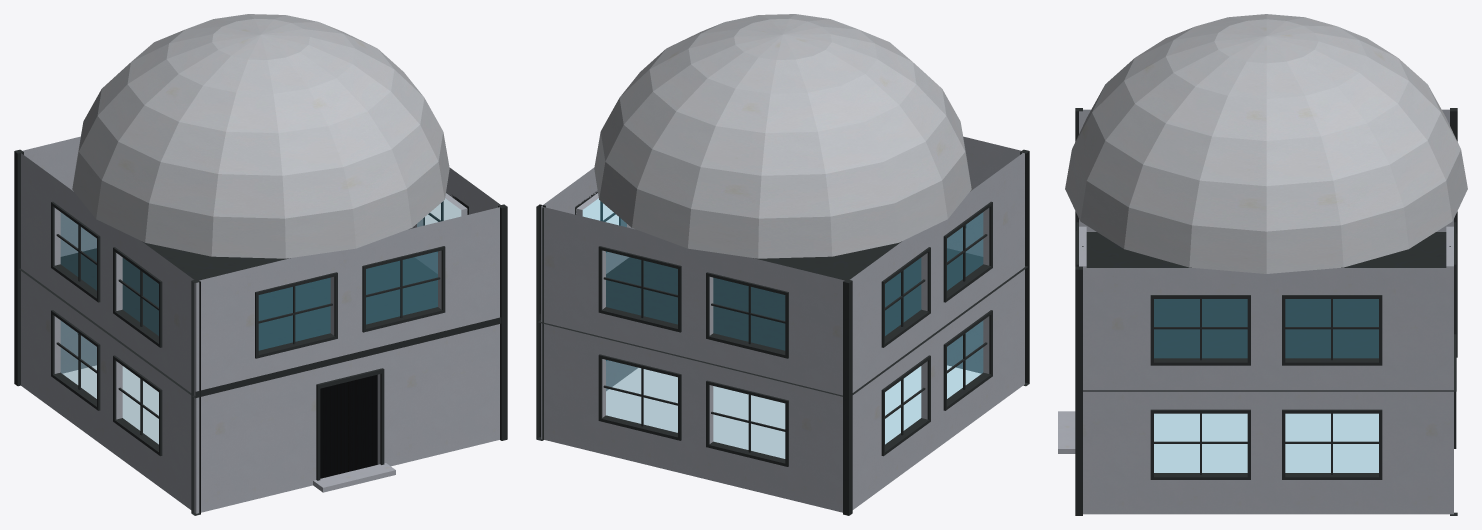
The model's file is future_dome_01.glb.
3 renders of one model, left to right at view 1: azimuth 30°, elevation 25°; view 2: azimuth 150°, elevation 25°; view 3: azimuth 270°, elevation 25°, orthographic. The views are drawn at different scales.
Visible parts, largest first — view 1: future_dome_01; view 2: future_dome_01; view 3: future_dome_01.
Boxes of the visible parts, x1,y1,x2,y2 form: future_dome_01: (14, 14, 507, 515); future_dome_01: (536, 14, 1029, 515); future_dome_01: (1058, 14, 1467, 515).
Size of the model in its own units: 8.6 by 9.4 by 8.75.
Materials: 5 (4 with a texture image).
